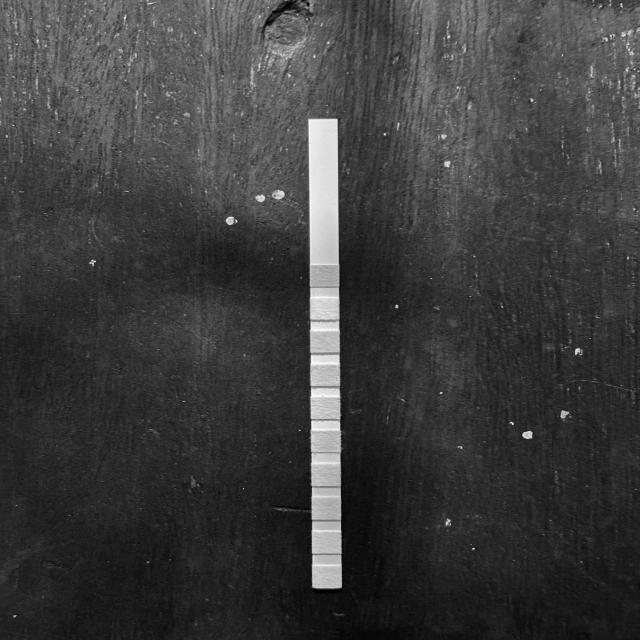Bilirubin: (312, 300, 338, 320)
Blood: (312, 400, 339, 419)
Glucose: (311, 266, 338, 286)
Ketone: (312, 333, 338, 352)
Leukocytes: (314, 567, 342, 587)
Nitrite: (313, 533, 340, 553)
Protein: (312, 465, 340, 485)
SpGravity: (312, 366, 339, 385)
Urobilinogen: (313, 499, 340, 518)
background: (0, 0, 640, 640)
pH: (312, 432, 339, 452)
strip: (311, 121, 342, 589)
